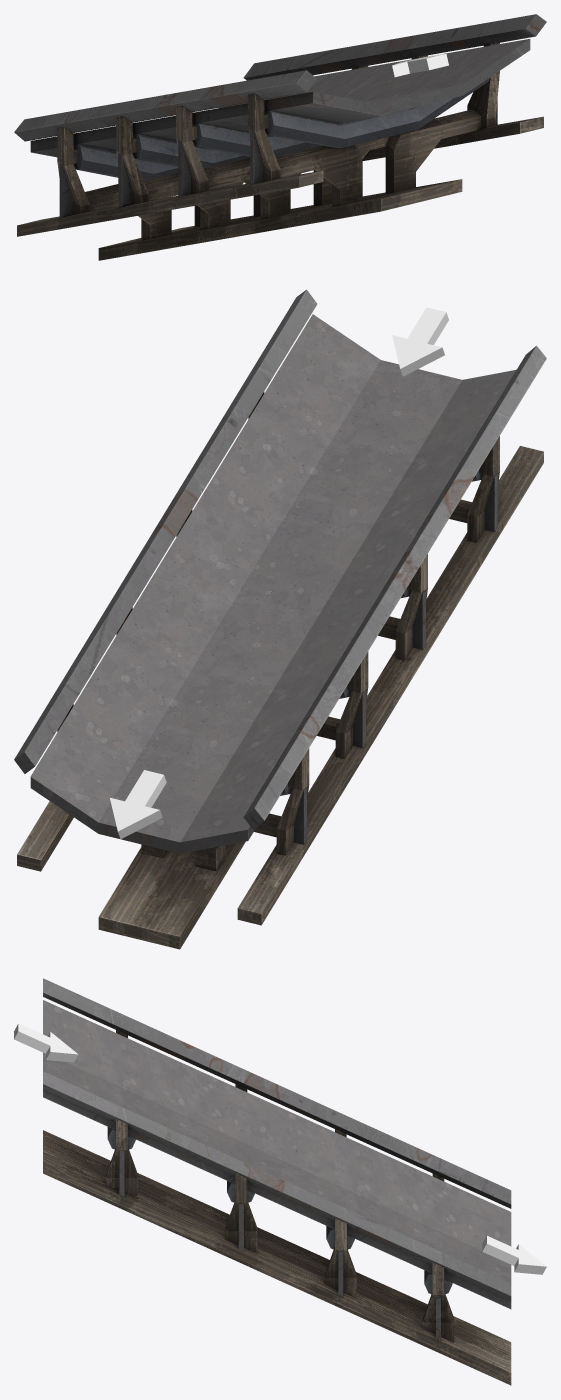
Rendered from ConveyorDown.glb.
3 renders of one model, top to bottom at view 1: azimuth 30°, elevation 25°; view 2: azimuth 150°, elevation 25°; view 3: azimuth 270°, elevation 25°, orthographic. The views are drawn at different scales.
Visible parts, largest first — view 1: ConveyorDown, ghostarrow; view 2: ConveyorDown, ghostarrow, ghostarrow (1); view 3: ConveyorDown, ghostarrow (1), ghostarrow.
Boxes of the visible parts, left/top/right/bottom form: ConveyorDown: left=14, top=14, right=546, bottom=260; ghostarrow: left=392, top=53, right=448, bottom=77; ConveyorDown: left=14, top=289, right=546, bottom=949; ghostarrow: left=392, top=307, right=448, bottom=376; ghostarrow (1): left=110, top=770, right=166, bottom=839; ConveyorDown: left=43, top=978, right=511, bottom=1385; ghostarrow (1): left=482, top=1236, right=546, bottom=1274; ghostarrow: left=14, top=1023, right=78, bottom=1062.
Bounding box in the file's own units: 1.02 × 1.62 × 2.28.
Materials: 3 (2 with a texture image).
